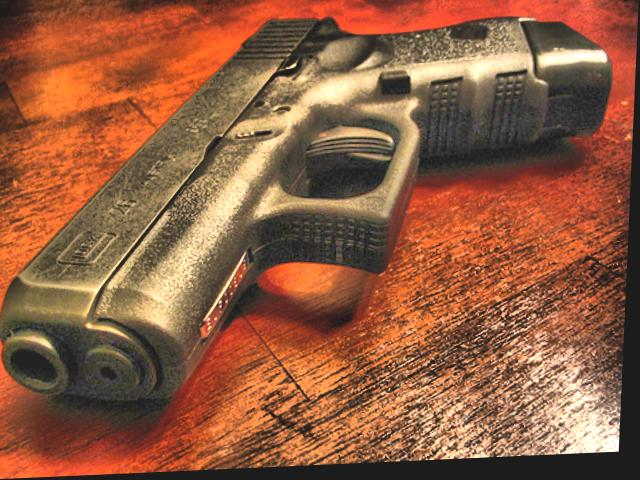pistol: (0, 6, 611, 418)
